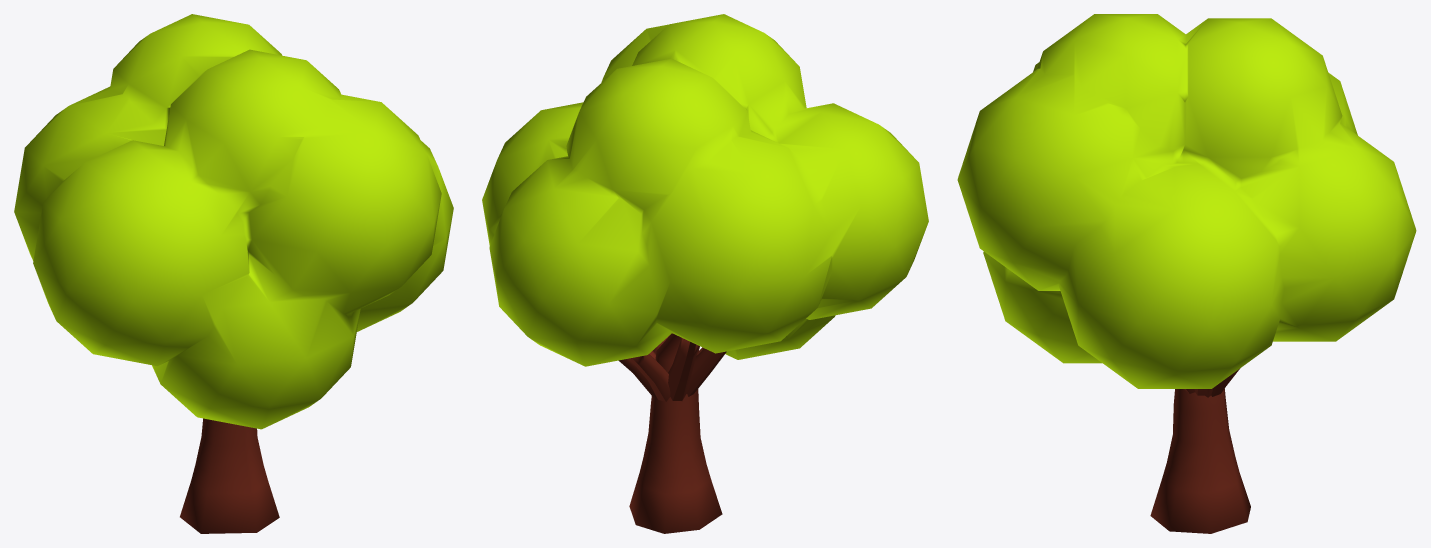
The model's file is Tree1.fbx.
3 renders of one model, left to right at view 1: azimuth 30°, elevation 25°; view 2: azimuth 150°, elevation 25°; view 3: azimuth 270°, elevation 25°, orthographic. The views are drawn at different scales.
Visible parts, largest first — view 1: Tree1; view 2: Tree1; view 3: Tree1.
Boxes of the visible parts, x1,y1,x2,y2 form: Tree1: (14,14,453,533); Tree1: (482,14,928,533); Tree1: (957,14,1416,533).
Size of the model in its own units: 24.99 by 28.5 by 24.02.
